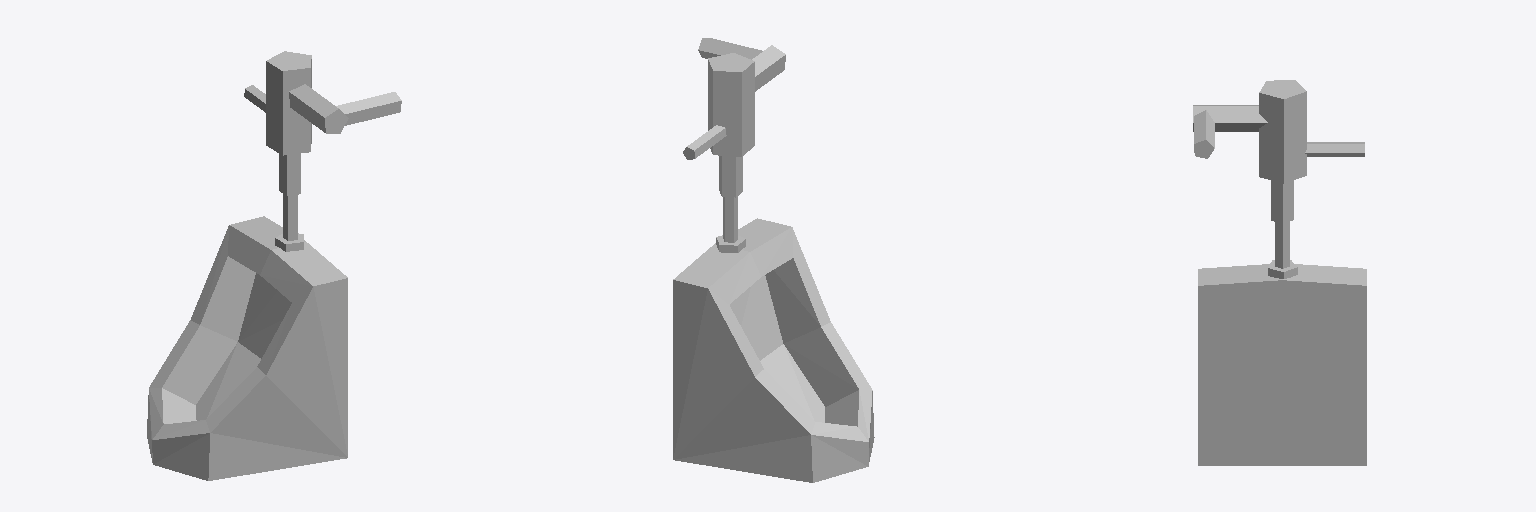
The model's file is urinal.obj.
3 renders of one model, left to right at view 1: azimuth 30°, elevation 25°; view 2: azimuth 150°, elevation 25°; view 3: azimuth 270°, elevation 25°, orthographic.
Visible parts, largest first — view 1: Box02; view 2: Box02; view 3: Box02.
Part boxes in pixels (left/top/right/bottom): Box02: left=147, top=51, right=401, bottom=480; Box02: left=673, top=38, right=874, bottom=482; Box02: left=1193, top=80, right=1366, bottom=465.
Size of the model in its own units: 3.75 by 6.46 by 2.75.